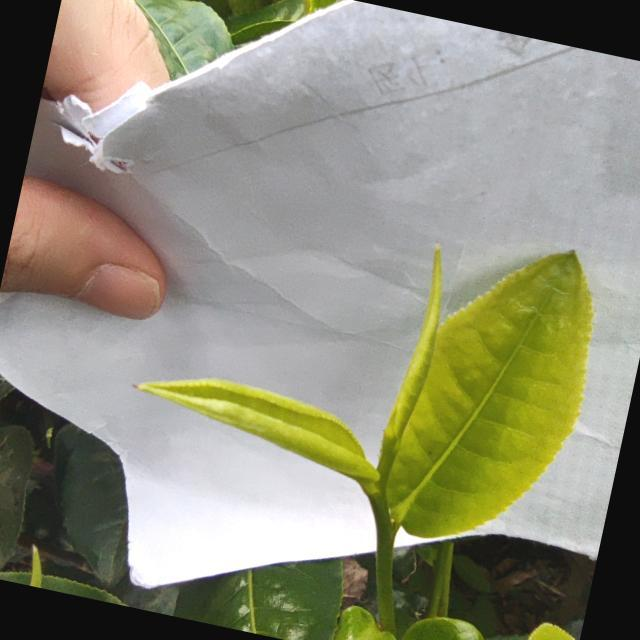Stem: (378, 539, 392, 584)
